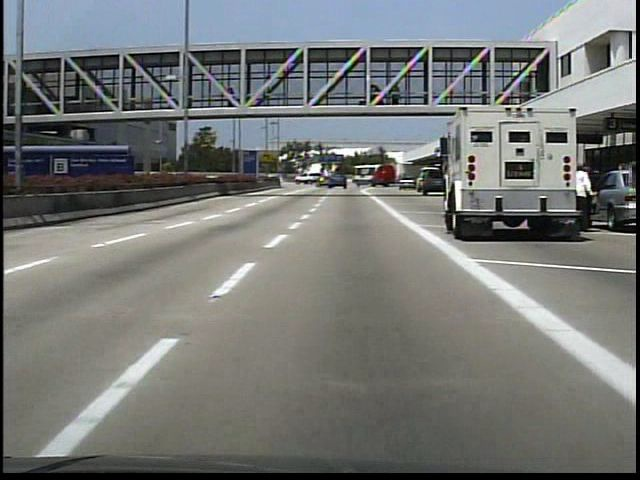person: (573, 156, 595, 231)
